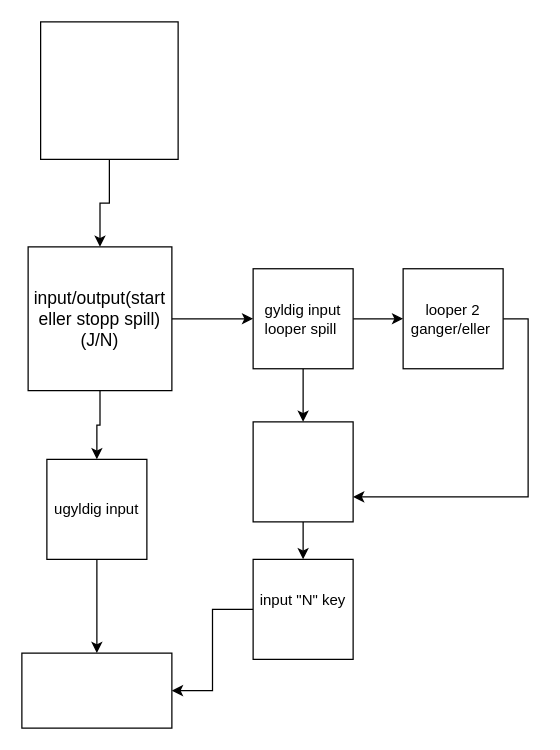
This 560x750 diagram has some shape labels left out. The centre of each missing label's shape, as x and y in pixels:
riktig svar program begynner på nytt: (302,471)
start program: (108,90)
stopp program: (96,690)
